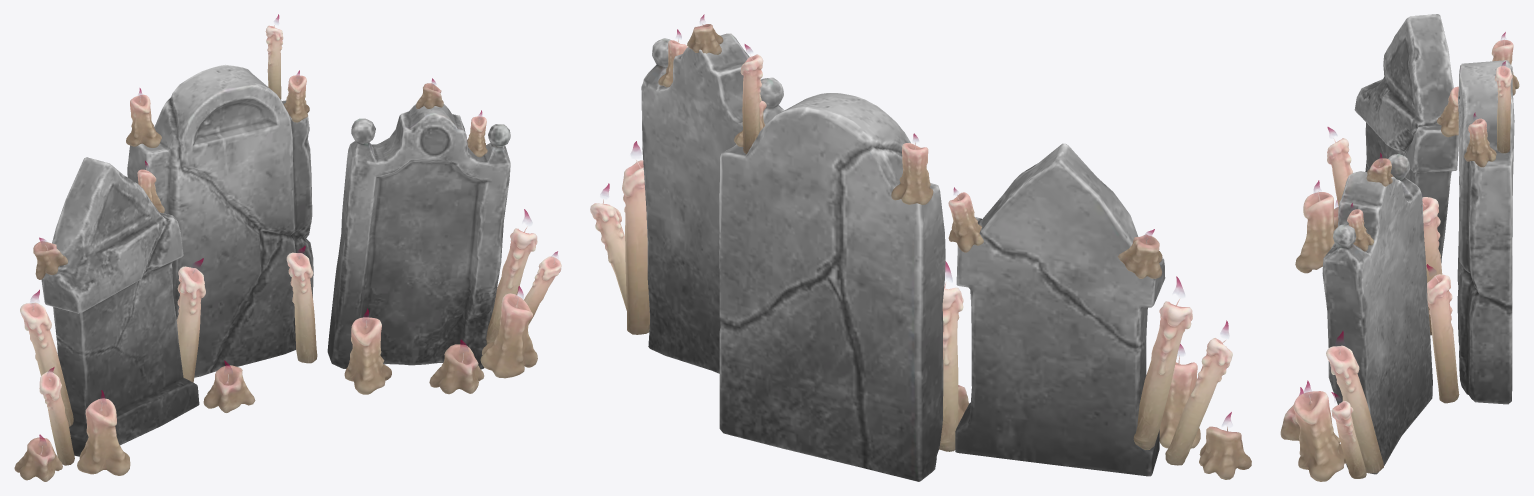
Rendered from candlegraves.glb.
3 views of the same model, side by side, from view 1: azimuth 30°, elevation 25°; view 2: azimuth 150°, elevation 25°; view 3: azimuth 270°, elevation 25° (orthographic). The views are drawn at different scales.
Parts seen in each view (by area): view 1: Object_3, Object_2, Object_4; view 2: Object_3, Object_2; view 3: Object_3, Object_2, Object_4.
Boxes of the visible parts, x1,y1,x2,y2 form: Object_3: [20, 14, 561, 465]; Object_2: [14, 75, 537, 481]; Object_4: [39, 70, 531, 444]; Object_3: [590, 33, 1232, 481]; Object_2: [658, 24, 1251, 479]; Object_3: [1299, 60, 1514, 478]; Object_2: [1280, 14, 1519, 481]; Object_4: [1304, 32, 1505, 395].
Bounding box in the file's own units: 3.27 × 1.91 × 1.21.
1 material, 1 textured.
